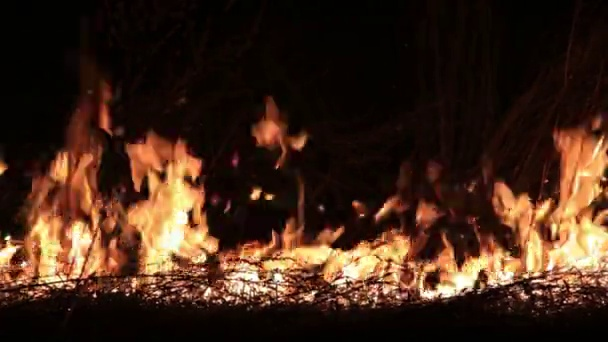fire: (1, 125, 216, 293), (419, 123, 608, 300), (217, 222, 408, 307), (251, 108, 308, 160)
